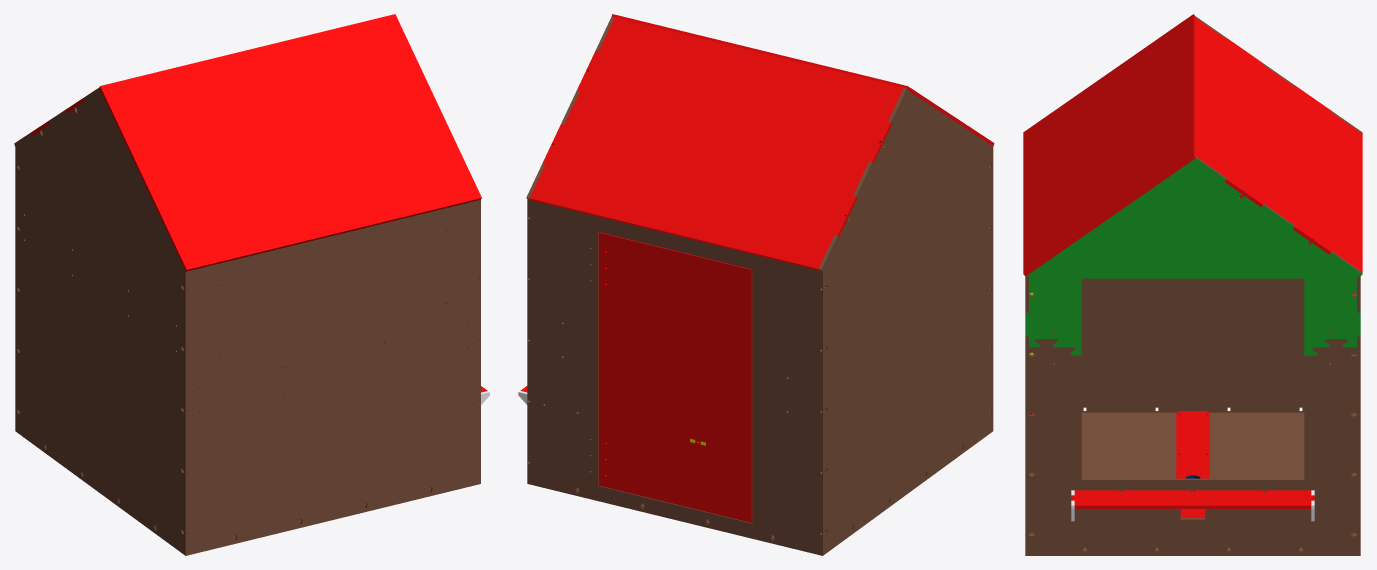
Rendered from izbushka.glb.
3 views of the same model, side by side, from view 1: azimuth 30°, elevation 25°; view 2: azimuth 150°, elevation 25°; view 3: azimuth 270°, elevation 25° (orthographic).
Visible parts, largest first — view 1: èçáóøêà244345645565768765432345678; view 2: èçáóøêà244345645565768765432345678; view 3: èçáóøêà244345645565768765432345678.
Boxes of the visible parts, <box> form: èçáóøêà244345645565768765432345678: <box>14,14,489,555</box>; èçáóøêà244345645565768765432345678: <box>518,14,994,555</box>; èçáóøêà244345645565768765432345678: <box>1023,14,1362,555</box>.
Bounding box in the file's own units: 610 × 781 × 557.
